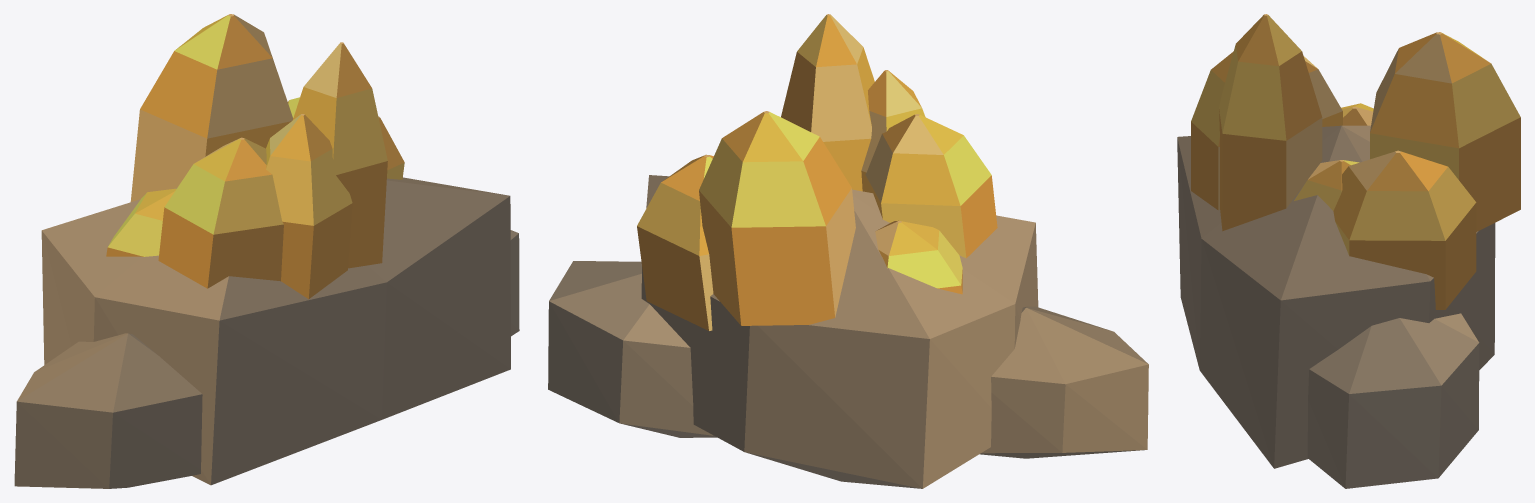
Rendered from extension_node_13.glb.
3 renders of one model, left to right at view 1: azimuth 30°, elevation 25°; view 2: azimuth 150°, elevation 25°; view 3: azimuth 270°, elevation 25°, orthographic. The views are drawn at different scales.
Parts seen in each view (by area): view 1: extension_node_13; view 2: extension_node_13; view 3: extension_node_13.
Boxes of the visible parts, x1=… form: extension_node_13: x1=14, y1=14, x2=519, y2=488; extension_node_13: x1=548, y1=14, x2=1148, y2=488; extension_node_13: x1=1177, y1=14, x2=1520, y2=488.
Size of the model in its own units: 1.67 by 1.28 by 0.9153.
